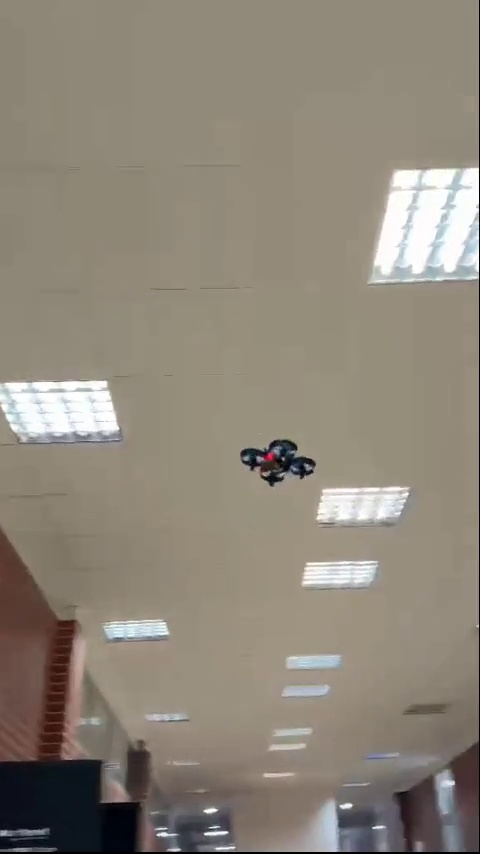drone: (242, 434, 315, 488)
